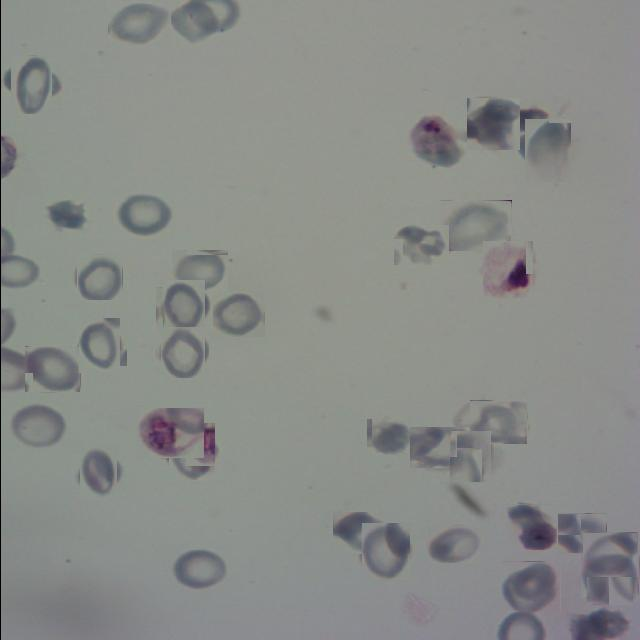leukocyte: (439, 200, 511, 251), (500, 561, 560, 611), (7, 401, 69, 449), (520, 123, 574, 178), (358, 525, 412, 579), (409, 428, 478, 470), (112, 192, 174, 238), (107, 2, 170, 46), (164, 426, 217, 478), (466, 98, 519, 150), (583, 550, 635, 602), (332, 511, 393, 554), (206, 292, 264, 337), (5, 59, 56, 110), (170, 547, 230, 590), (24, 346, 80, 392), (469, 400, 527, 444), (158, 284, 208, 334), (582, 532, 637, 577), (171, 249, 228, 292), (506, 504, 557, 550), (158, 328, 206, 376), (393, 224, 449, 265), (74, 322, 122, 369), (169, 0, 218, 45), (446, 434, 493, 480), (75, 450, 121, 496), (76, 254, 122, 300), (426, 525, 481, 563), (557, 513, 606, 553), (366, 418, 415, 455), (45, 199, 89, 231)
ring: (480, 242, 534, 296)
schizont: (137, 407, 204, 458)
